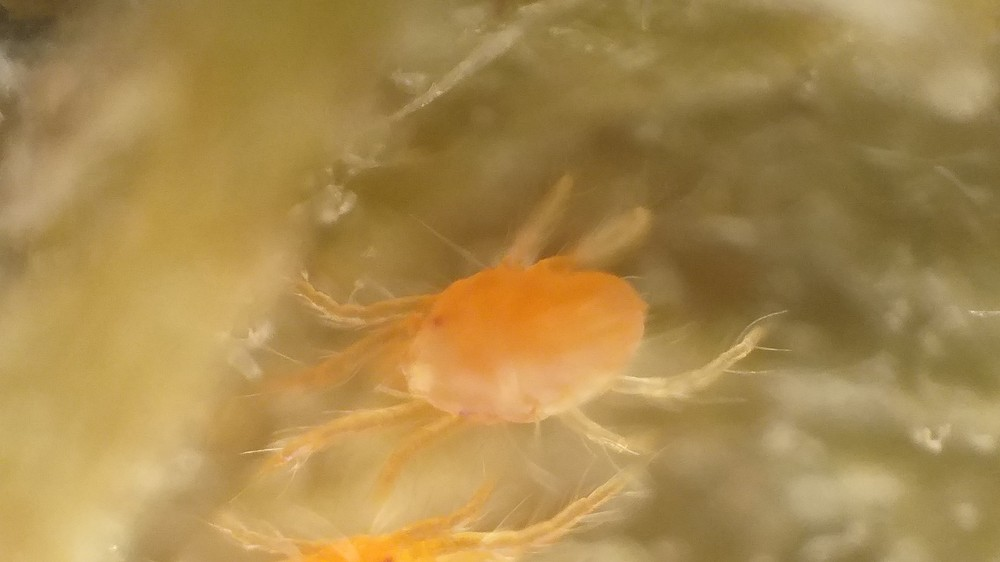Aracnido Rojo: (260, 175, 834, 505)
